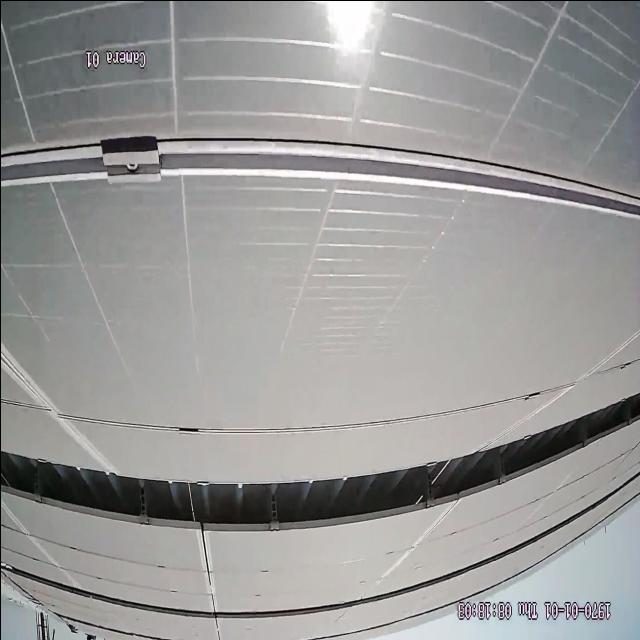interior panel: (1, 132, 640, 222), (1, 347, 113, 466), (194, 535, 217, 610)
outher panel: (1, 394, 640, 530)
